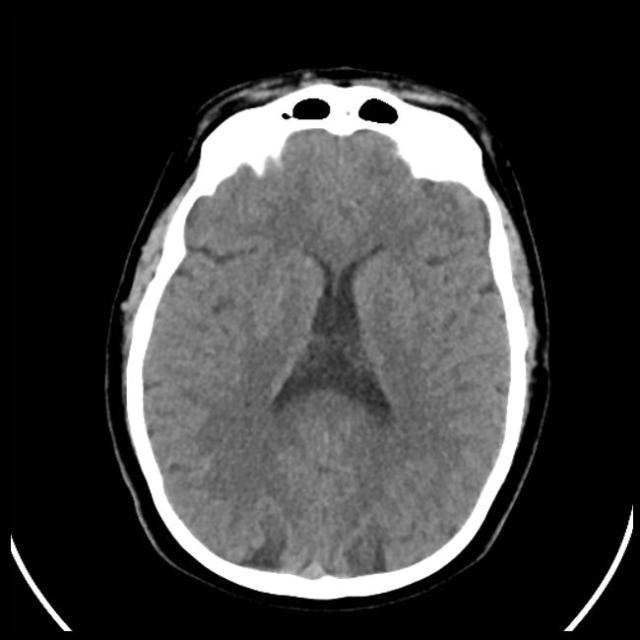lesion: (112, 73, 546, 592)
